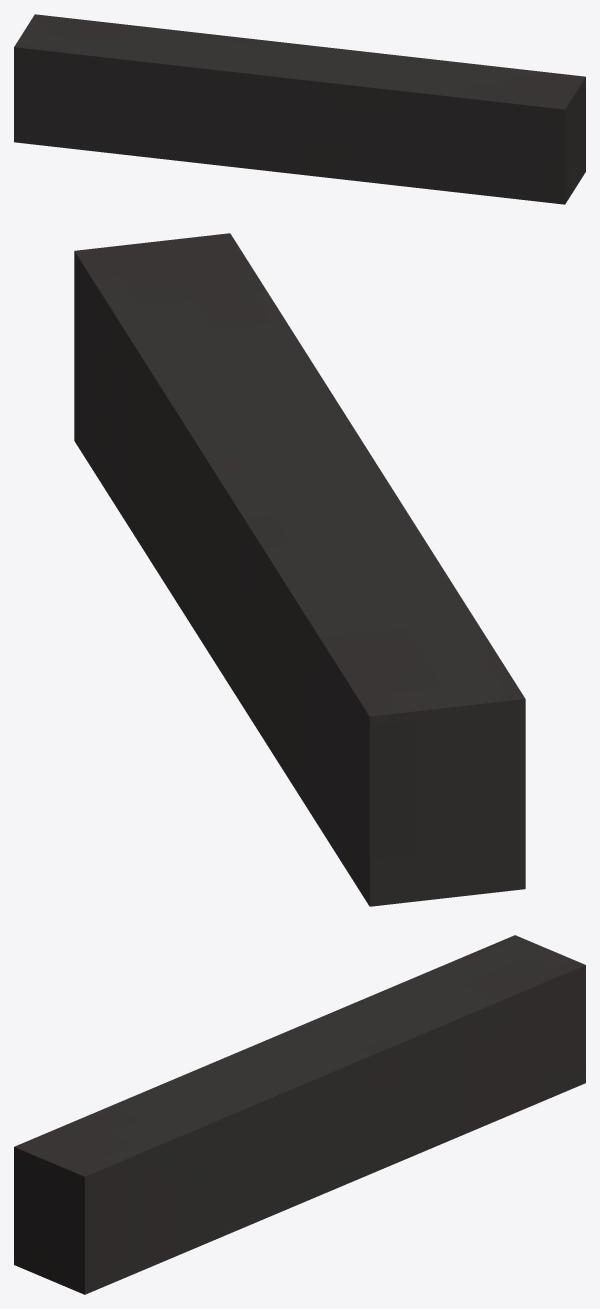
Rendered from frame__front_roller_strut.glb.
3 views of the same model, one above another, from view 1: azimuth 30°, elevation 25°; view 2: azimuth 150°, elevation 25°; view 3: azimuth 270°, elevation 25° (orthographic). The views are drawn at different scales.
Visible parts, largest first — view 1: world; view 2: world; view 3: world.
Part boxes in pixels (left/top/right/bottom): world: left=14, top=14, right=585, bottom=204; world: left=74, top=233, right=525, bottom=906; world: left=14, top=935, right=585, bottom=1294.
Bounding box in the file's own units: 0.2854 × 0.065 × 0.2854.
1 material, 1 textured.
